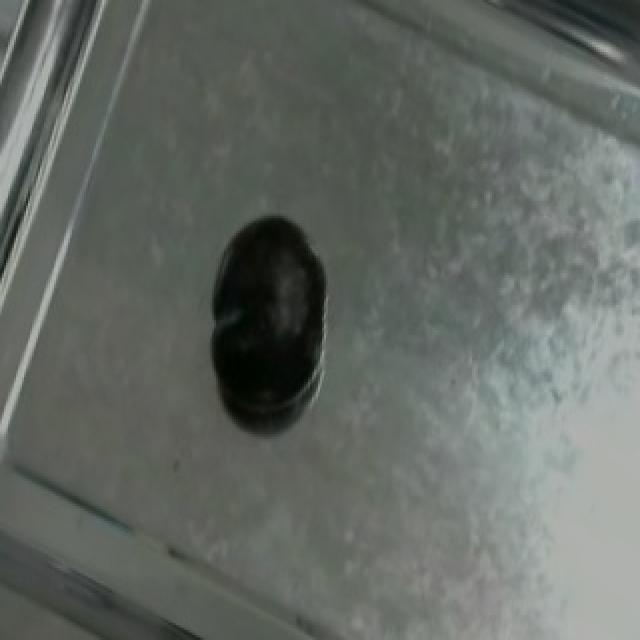Fruit: (196, 196, 338, 407)
